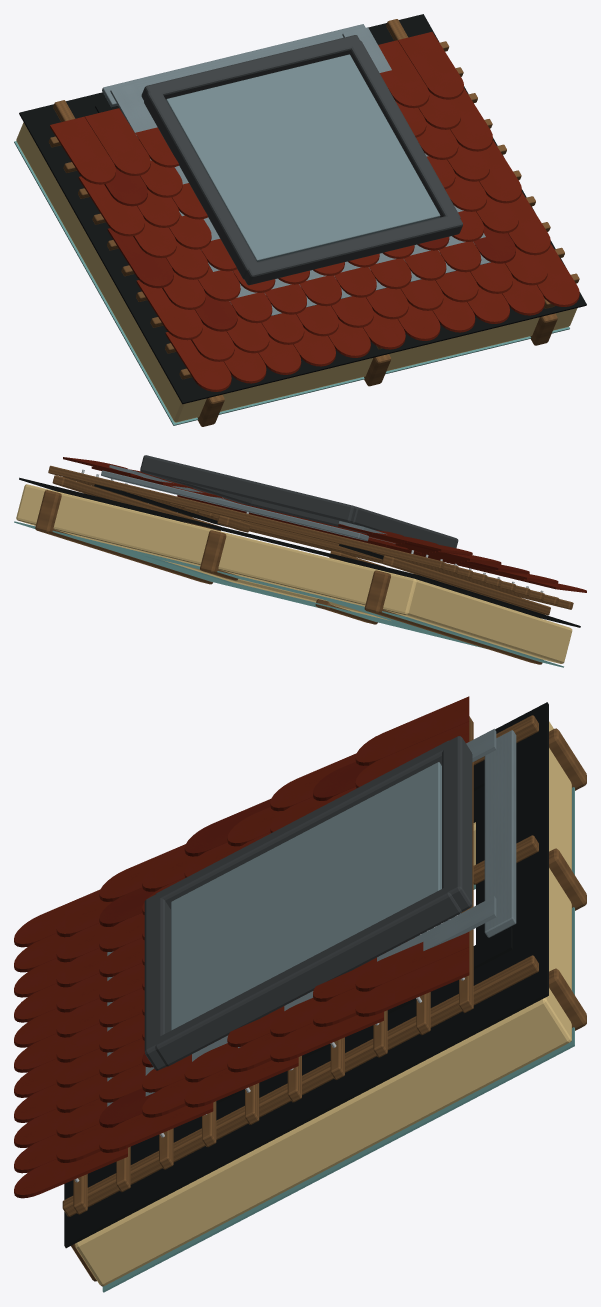
File: modell.glb
3 renders of one model, top to bottom at view 1: azimuth 30°, elevation 25°; view 2: azimuth 150°, elevation 25°; view 3: azimuth 270°, elevation 25°, orthographic. The views are drawn at different scales.
Visible parts, largest first — view 1: s09-deckziegel_deckung, s09-fenster_, s09-rahmen_, s09-zusatzebene_zusatzebene, s09-daemmung_daemmung, s09-deckziegel_deckung.001, s09-anschluss_deckung, s09-zusatzebene_zusatzebene.001, s09-lattung_lattung, s09-luftdichtheit_luftdichtheit, s09-sparren_tragwerk; view 2: s09-daemmung_daemmung, s09-lattung_lattung, s09-rahmen_, s09-sparren_tragwerk, s09-deckziegel_deckung, s09-luftdichtheit_luftdichtheit, s09-zusatzebene_zusatzebene, s09-zusatzebene_zusatzebene.001, s09-zusatzebene_zusatzebene.002, s09-deckziegel_deckung.001, s09-anschluss_deckung; view 3: s09-deckziegel_deckung, s09-fenster_, s09-daemmung_daemmung, s09-zusatzebene_zusatzebene, s09-rahmen_, s09-lattung_lattung, s09-zusatzebene_zusatzebene.001, s09-deckziegel_deckung.001, s09-luftdichtheit_luftdichtheit, s09-sparren_tragwerk, s09-anschluss_deckung, s09-zusatzebene_zusatzebene.002.
Part boxes in pixels (x1,y1,x2,y2): s09-deckziegel_deckung: (50, 32, 579, 391); s09-fenster_: (166, 54, 440, 261); s09-rahmen_: (141, 35, 462, 285); s09-zusatzebene_zusatzebene: (19, 14, 586, 404); s09-daemmung_daemmung: (16, 122, 577, 422); s09-deckziegel_deckung.001: (104, 167, 515, 331); s09-anschluss_deckung: (110, 27, 490, 315); s09-zusatzebene_zusatzebene.001: (102, 24, 365, 107); s09-lattung_lattung: (48, 19, 579, 379); s09-luftdichtheit_luftdichtheit: (14, 141, 569, 425); s09-sparren_tragwerk: (197, 313, 557, 426); s09-daemmung_daemmung: (16, 484, 572, 663); s09-lattung_lattung: (48, 465, 573, 615); s09-rahmen_: (140, 455, 458, 547); s09-sparren_tragwerk: (35, 490, 542, 664); s09-deckziegel_deckung: (63, 457, 586, 592); s09-luftdichtheit_luftdichtheit: (14, 521, 563, 667); s09-zusatzebene_zusatzebene: (19, 477, 580, 627); s09-zusatzebene_zusatzebene.001: (101, 470, 368, 541); s09-zusatzebene_zusatzebene.002: (94, 484, 383, 559); s09-deckziegel_deckung.001: (241, 504, 529, 573); s09-anschluss_deckung: (109, 465, 395, 543); s09-deckziegel_deckung: (14, 696, 469, 1198); s09-fenster_: (171, 762, 441, 1030); s09-daemmung_daemmung: (75, 721, 571, 1286); s09-zusatzebene_zusatzebene: (64, 702, 548, 1248); s09-rahmen_: (144, 736, 472, 1070); s09-lattung_lattung: (62, 715, 538, 1216); s09-zusatzebene_zusatzebene.001: (484, 730, 516, 937); s09-deckziegel_deckung.001: (99, 761, 368, 1127); s09-luftdichtheit_luftdichtheit: (102, 787, 574, 1292); s09-sparren_tragwerk: (71, 728, 586, 1281); s09-anschluss_deckung: (107, 728, 496, 1106); s09-zusatzebene_zusatzebene.002: (155, 762, 512, 1136).
Size of the model in its own units: 2.09 by 1.16 by 1.74.
Materials: 10 (4 with a texture image).
